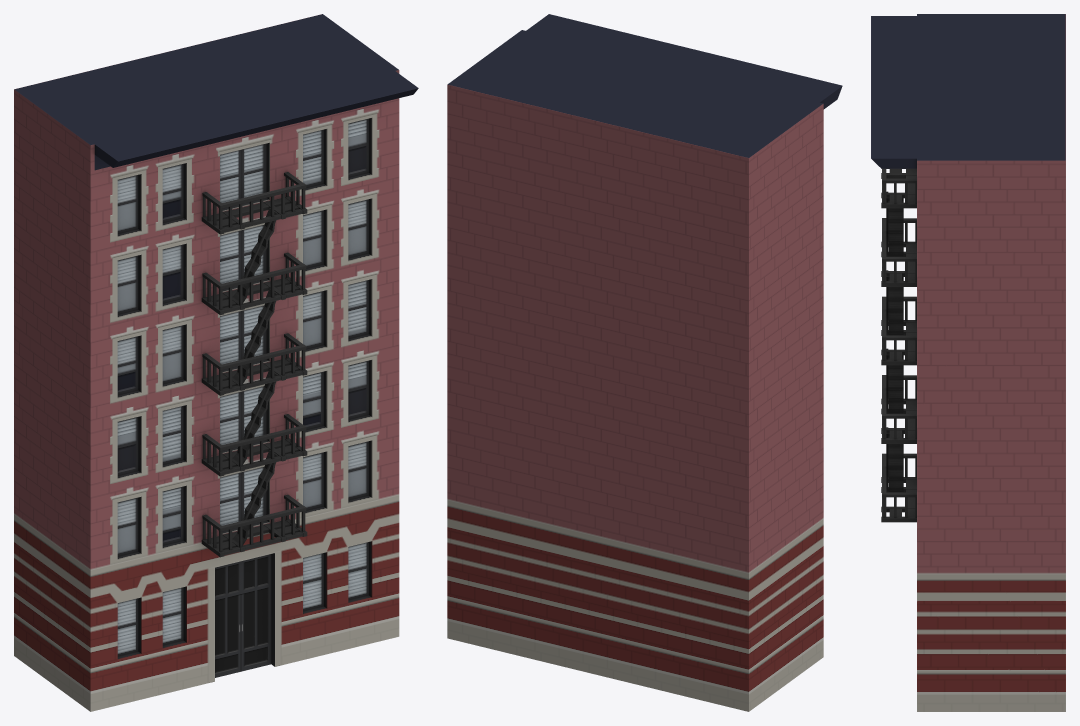
Rendered from Apartment.obj.
3 renders of one model, left to right at view 1: azimuth 30°, elevation 25°; view 2: azimuth 150°, elevation 25°; view 3: azimuth 270°, elevation 25°, orthographic. The views are drawn at different scales.
Visible parts, largest first — view 1: Apartment_mesh; view 2: Apartment_mesh; view 3: Apartment_mesh.
Part boxes in pixels (x1=…): Apartment_mesh: x1=14, y1=14, x2=418, y2=711; Apartment_mesh: x1=447, y1=14, x2=842, y2=711; Apartment_mesh: x1=871, y1=14, x2=1065, y2=711.
Size of the model in its own units: 10.32 by 18.1 by 5.79.
1 material, 1 textured.
